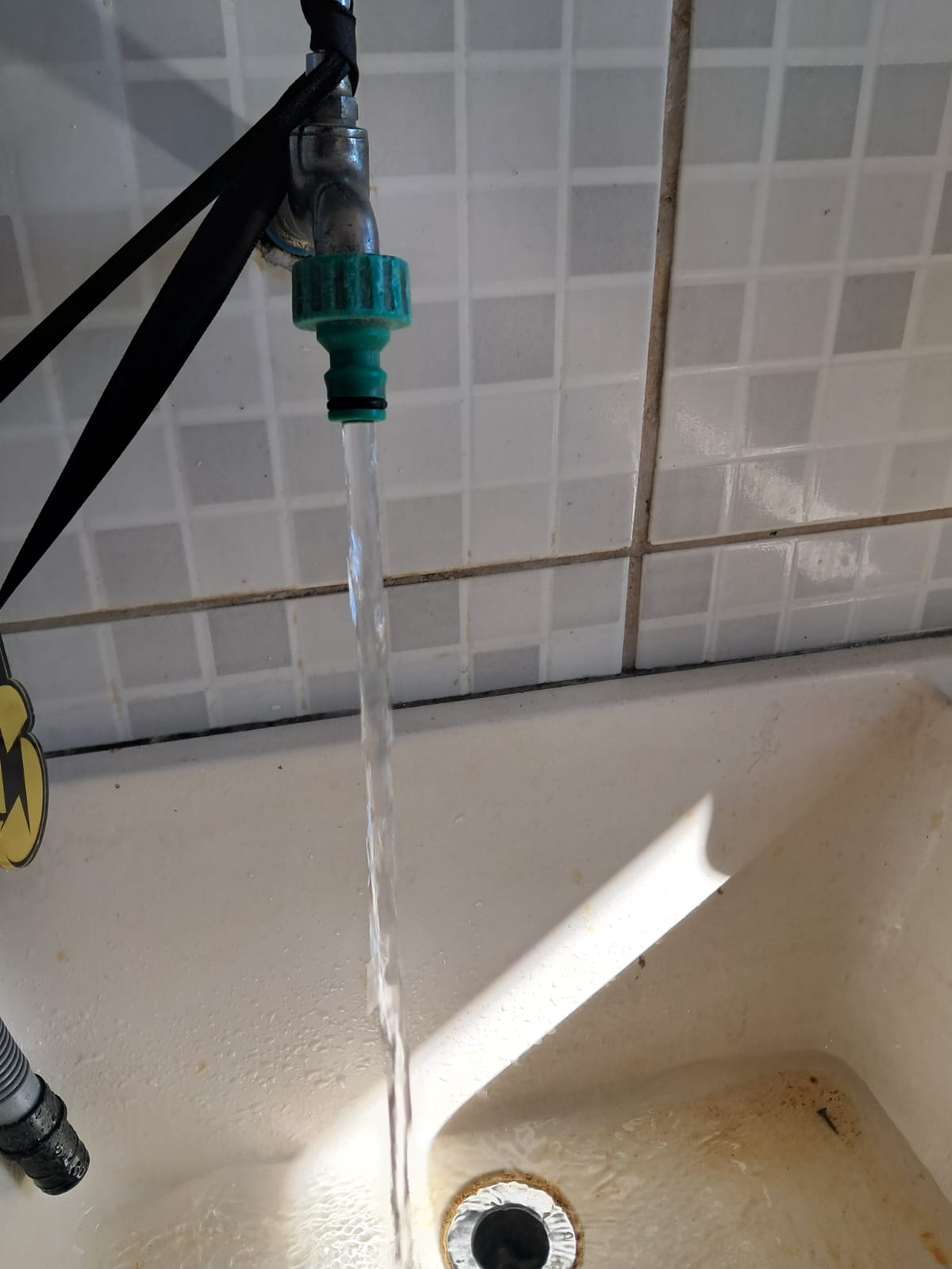torneira_aberta: (221, 0, 514, 1260)
